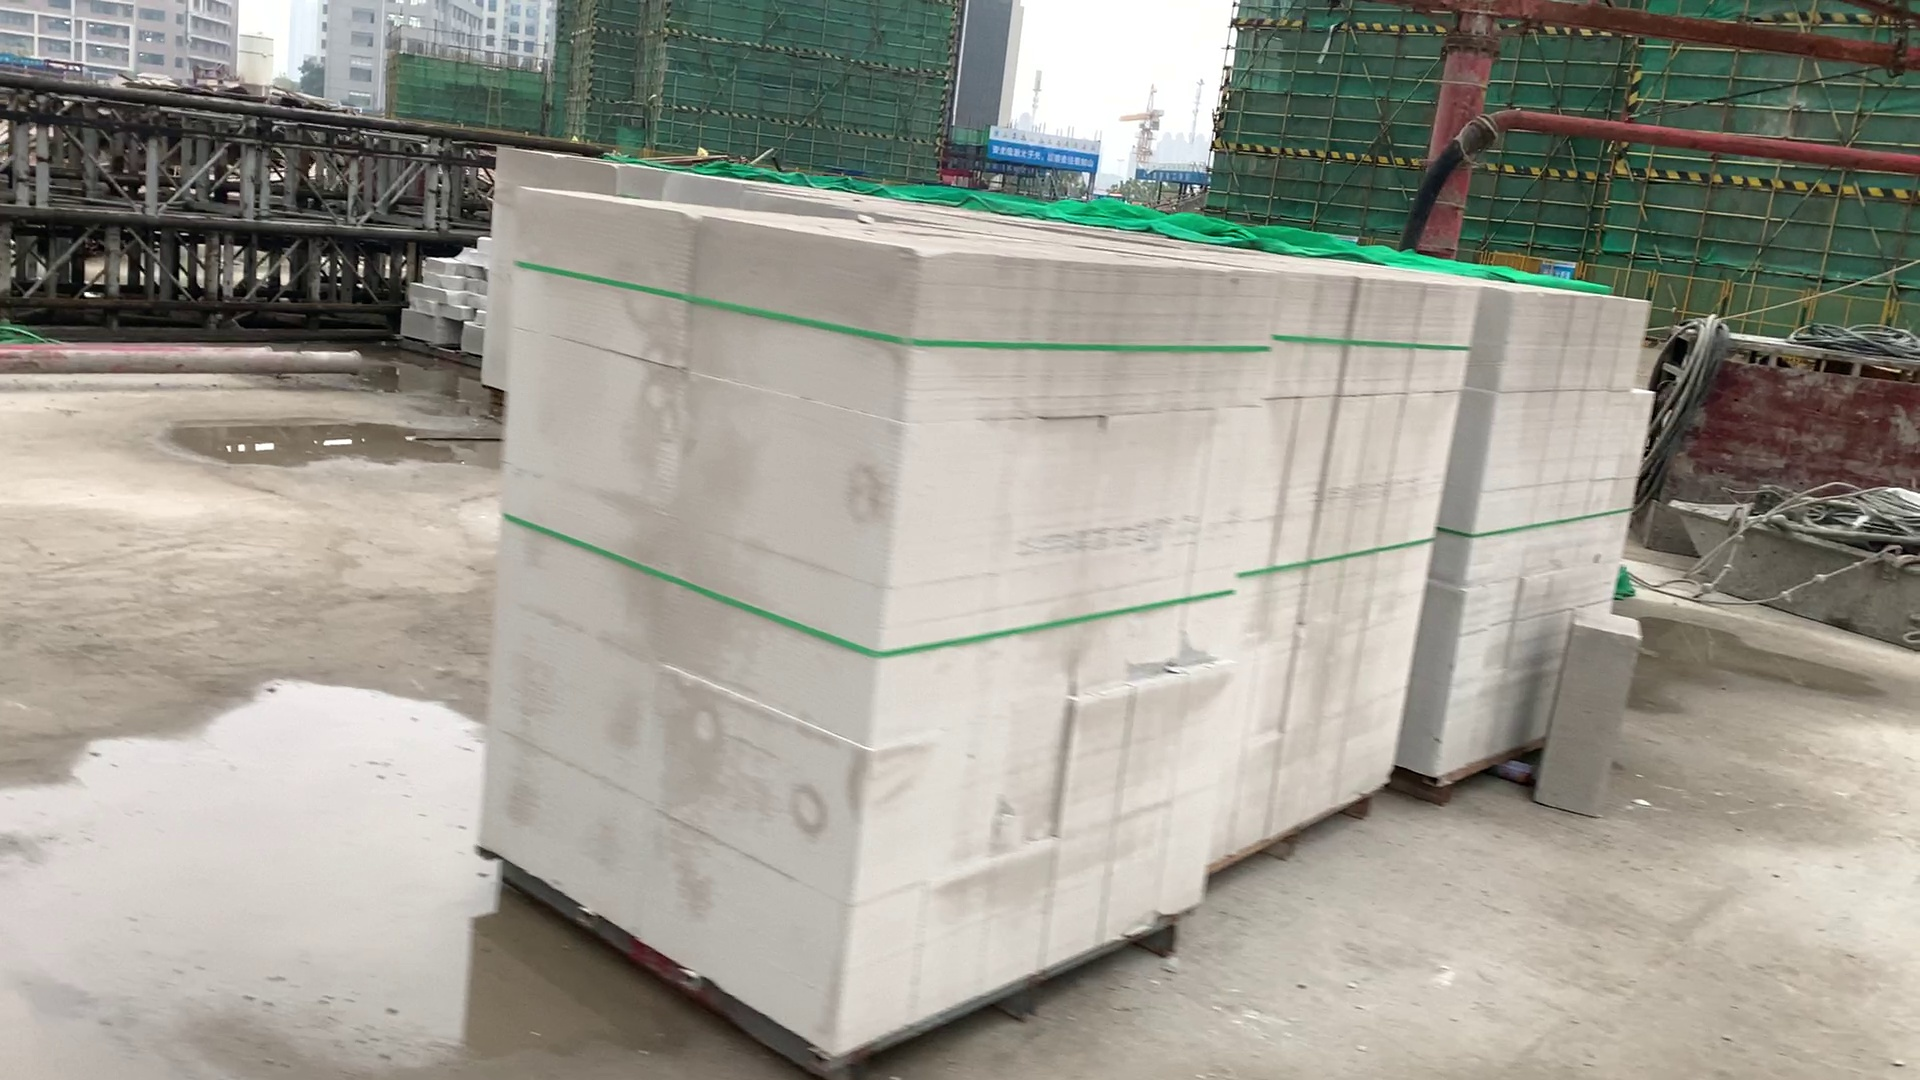brickwork: (469, 191, 923, 1054), (1224, 264, 1460, 864), (1458, 287, 1638, 789)
